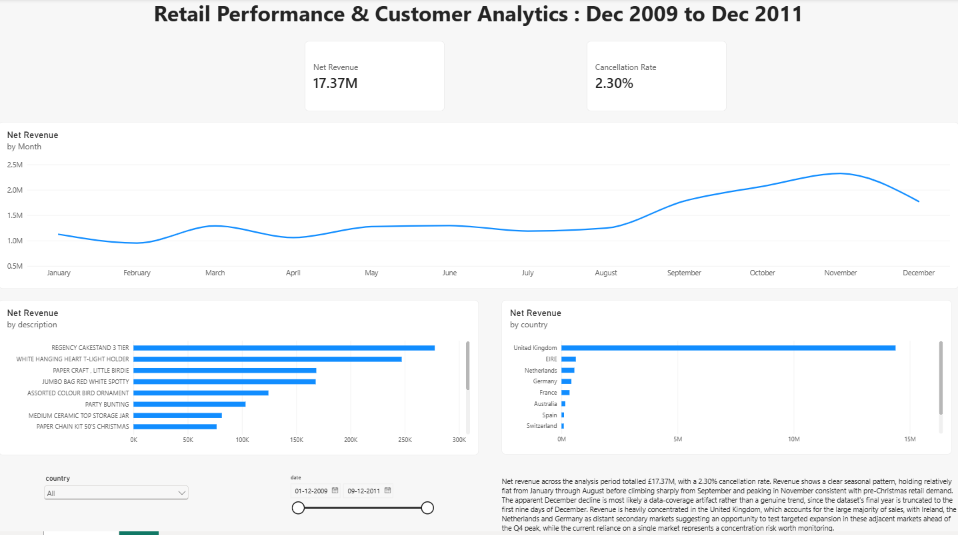

The dashboard page shown, as its layout file describes it:
{"tool":"powerbi","page":{"name":"Page 1","canvas":[1920,1080],"ordinal":0},"visuals":[{"type":"cardVisual","fields":{"Data":["public fact_transactions.Net Revenue"]},"box":[612,86,280,140],"z":0},{"type":"cardVisual","fields":{"Data":["public fact_transactions.Cancellation Rate"]},"box":[1176,86,280,140],"z":1000},{"type":"lineChart","fields":{"Category":["public dim_dates.date.Variation.Date Hierarchy.Month"],"Y":["public fact_transactions.Net Revenue"]},"box":[0,248,1920,333.3],"z":2000},{"type":"barChart","fields":{"Category":["public dim_customers.country"],"Y":["public fact_transactions.Net Revenue"]},"box":[1006,604,900,308.6],"z":3000},{"type":"barChart","fields":{"Category":["public dim_products.description"],"Y":["public fact_transactions.Net Revenue"]},"box":[0,604,960,310],"z":4000},{"type":"textbox","box":[1005.7,955.7,914.3,124.3],"z":7000},{"type":"textbox","box":[0,0,1920,86],"z":7002},{"type":"slicer","fields":{"Values":["public dim_dates.date"]},"box":[576,952,298,110],"z":7003},{"type":"slicer","fields":{"Values":["public dim_customers.country"]},"box":[86,952,298,110],"z":7004}]}

Visuals, with their boxes in screenshot pixels (x1, y1, x2, y2), scaled from the page's 1920x1080 canvas onto the 958x535 screenshot:
cardVisual - public fact_transactions.Net Revenue: x1=305, y1=43, x2=445, y2=112
cardVisual - public fact_transactions.Cancellation Rate: x1=587, y1=43, x2=726, y2=112
lineChart - public dim_dates.date.Variation.Date Hierarchy.Month x public fact_transactions.Net Revenue: x1=0, y1=123, x2=957, y2=288
barChart - public dim_customers.country x public fact_transactions.Net Revenue: x1=502, y1=299, x2=951, y2=452
barChart - public dim_products.description x public fact_transactions.Net Revenue: x1=0, y1=299, x2=479, y2=453
textbox: x1=502, y1=473, x2=957, y2=534
textbox: x1=0, y1=0, x2=957, y2=43
slicer - public dim_dates.date: x1=287, y1=472, x2=436, y2=526
slicer - public dim_customers.country: x1=43, y1=472, x2=192, y2=526
